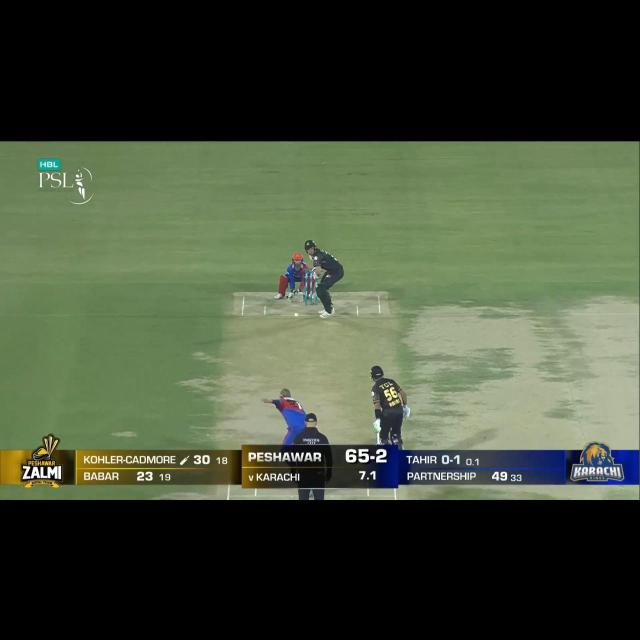bat: (307, 254, 316, 264)
